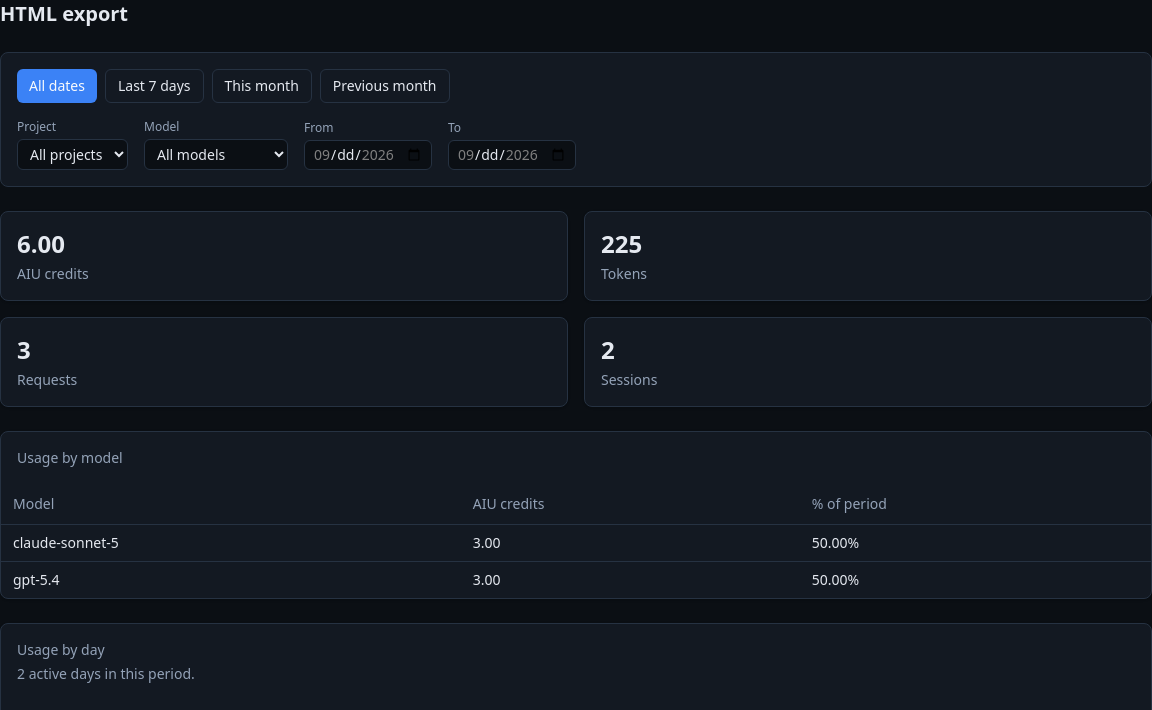
ExportPage › shows a validation message and does not request another preview for an invalid custom range
Expected: the text "6.00" is shown, [17, 227, 65, 260]
Type "2026-09-01" into the date field labelled "To" at (512, 155), box [448, 140, 576, 170]
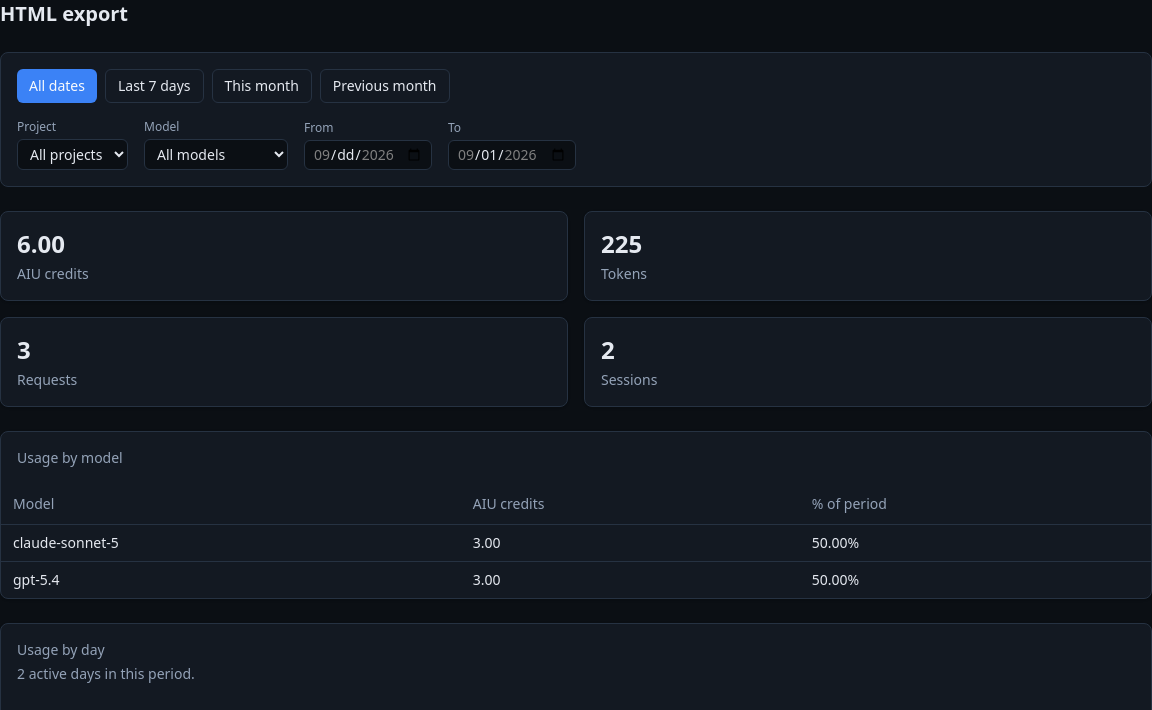
Type "2026-09-07" into the date field labelled "From" at (368, 155), box [304, 140, 432, 170]
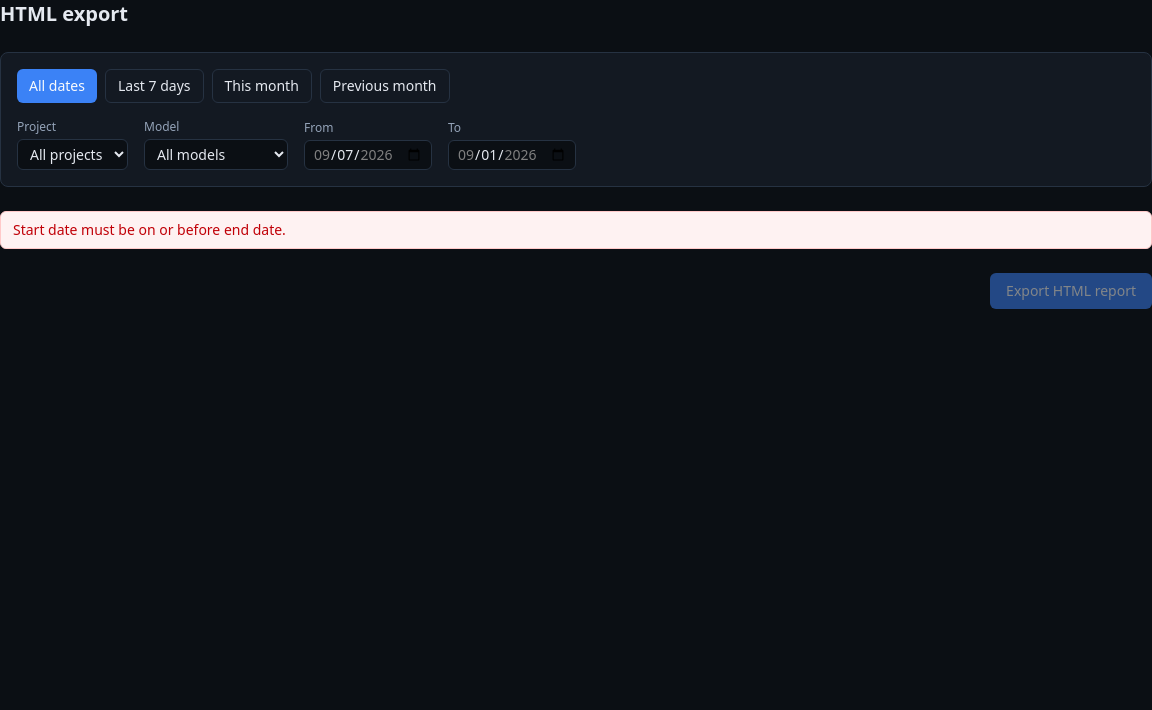
Result: the message reads "Start date must be on or before end date." at [13, 220, 286, 239]
Result: the button "Export HTML report" is disabled at [990, 273, 1151, 309]
